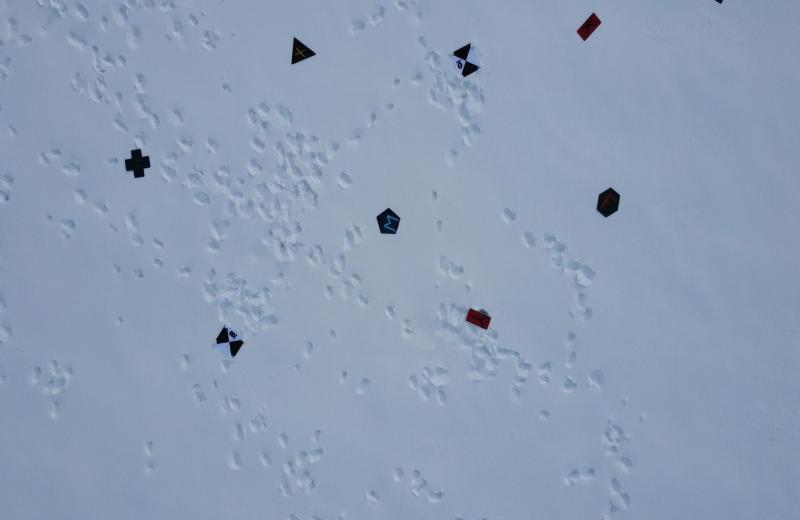Cross: (123, 146, 154, 180)
Hexagon: (593, 183, 624, 219)
Pentagon: (373, 204, 403, 240)
Rectangle: (573, 11, 604, 45), (463, 302, 496, 333)
Triangle: (285, 33, 318, 67)
